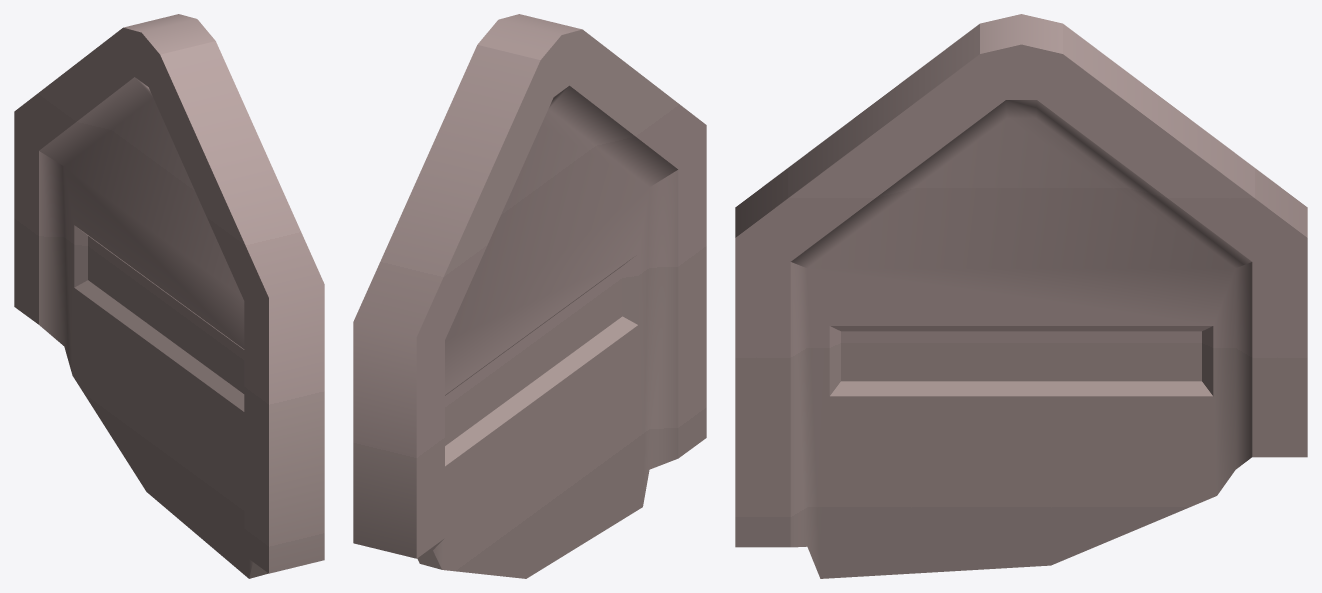
Rendered from SM_Gravestone_01_TH.fbx.
The picture shows the model from 3 angles, left to right: view 1: azimuth 30°, elevation 25°; view 2: azimuth 150°, elevation 25°; view 3: azimuth 270°, elevation 25°; orthographic projection. The views are drawn at different scales.
Parts seen in each view (by area): view 1: Gravestone_01_00; view 2: Gravestone_01_00; view 3: Gravestone_01_00.
Part boxes in pixels (<box>): Gravestone_01_00: <box>14,14,324,578</box>; Gravestone_01_00: <box>353,14,706,578</box>; Gravestone_01_00: <box>735,14,1307,578</box>.
Bounding box in the file's own units: 15.2 × 127 × 121.
1 material, 1 textured.
